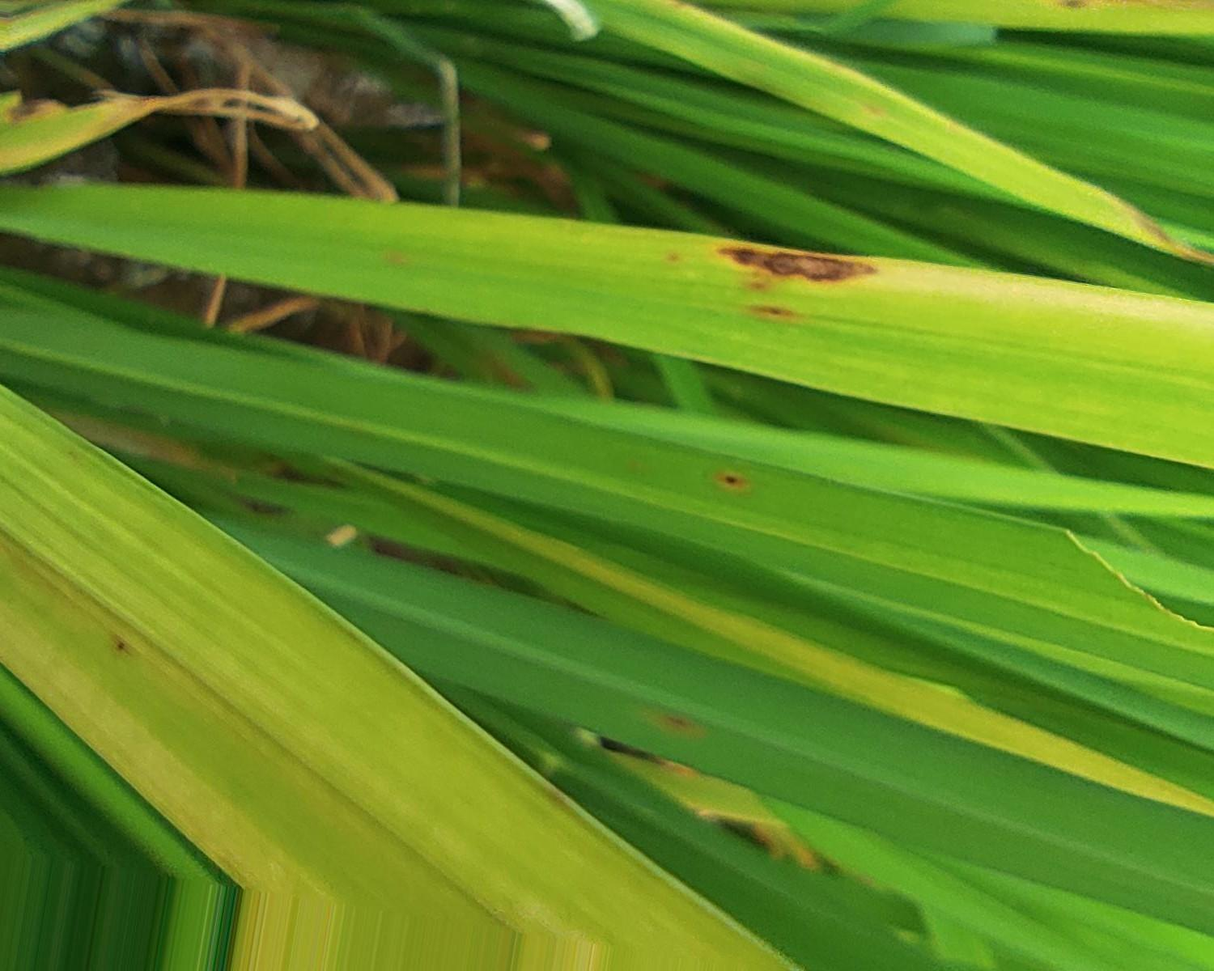LEAF: (0, 185, 1213, 468)
NBS: (721, 246, 875, 282), (746, 300, 806, 322), (385, 242, 413, 271), (664, 247, 680, 266), (747, 283, 770, 291)
